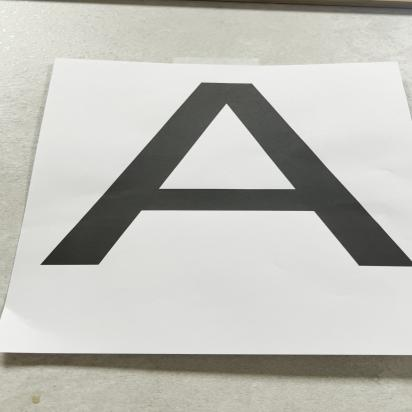seat: (56, 77, 412, 300)
